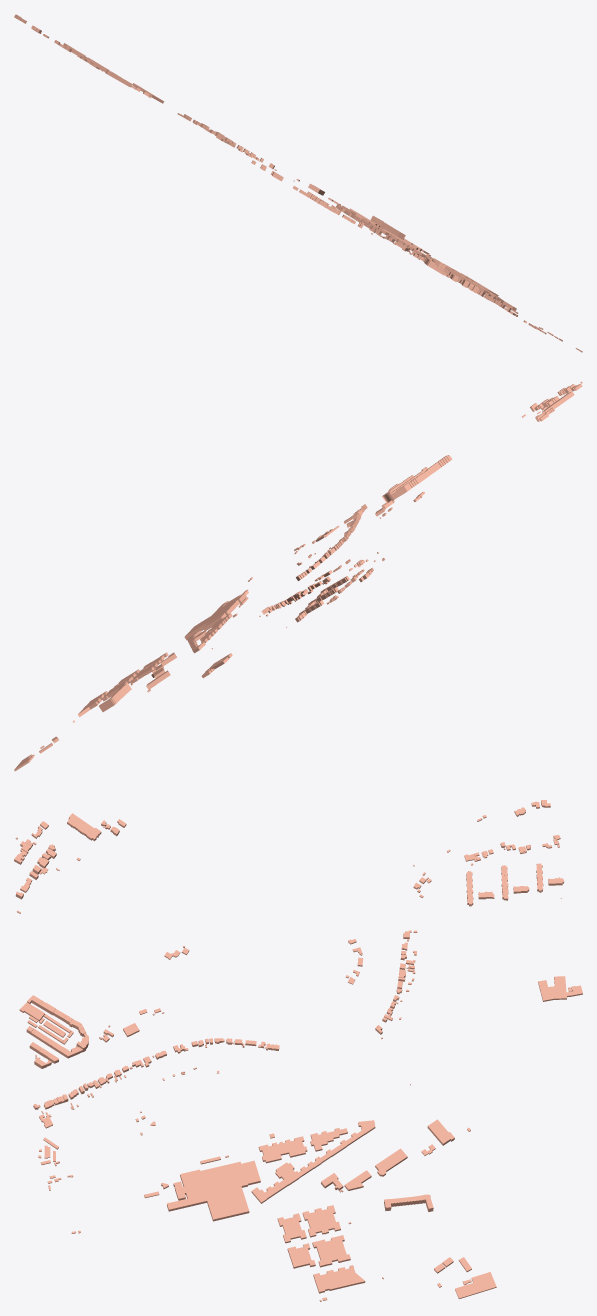
3 views of the same model, one above another, from view 1: azimuth 30°, elevation 25°; view 2: azimuth 150°, elevation 25°; view 3: azimuth 270°, elevation 25° (orthographic). The views are drawn at different scales.
Size of the model in its own units: 996 by 757 by 1244.
